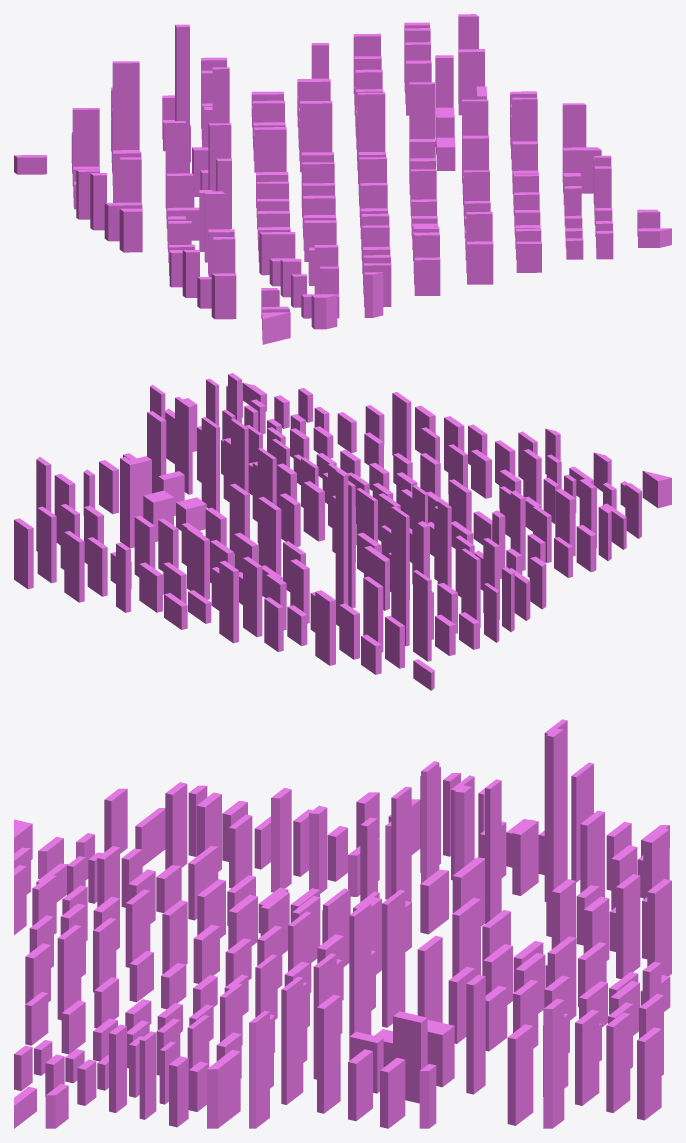
Rendered from buildings_00140.obj.
The picture shows the model from 3 angles, top to bottom: view 1: azimuth 30°, elevation 25°; view 2: azimuth 150°, elevation 25°; view 3: azimuth 270°, elevation 25°; orthographic projection. The views are drawn at different scales.
Bounding box in the file's own units: 1460 × 487 × 1447.
